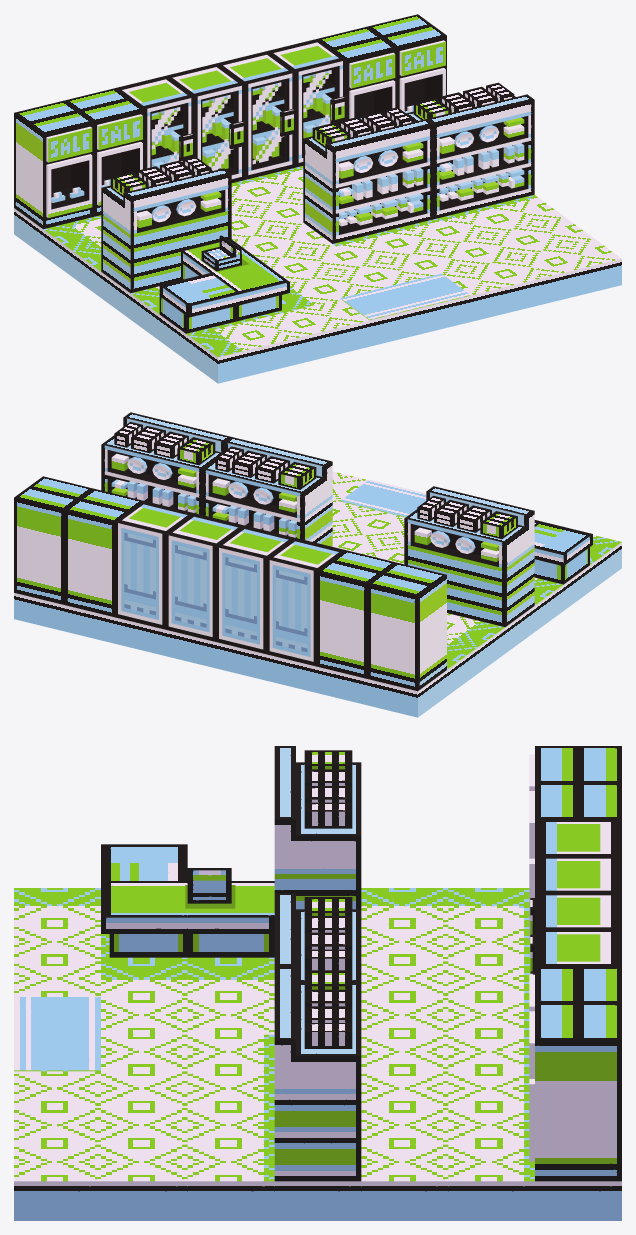
File: zone_family_mart_interior.glb
The picture shows the model from 3 angles, top to bottom: view 1: azimuth 30°, elevation 25°; view 2: azimuth 150°, elevation 25°; view 3: azimuth 270°, elevation 25°; orthographic projection. The views are drawn at different scales.
Parts seen in each view (by area): view 1: Floor, Balcony_Shelf, Shelf_pokemart_mat_0.001, Balcony, Shelf, Sale_Shelf_pokemart_mat_0.003, Fridge_Door_pokemart_fridge_mat_0.001, Mat, Fridge_Door_pokemart_fridge_mat_0.002, Sale_Shelf_Inside_pokemart_mat_0.003, Sale_Shelf_pokemart_mat_0.002, Fridge_pokemart_fridge_mat_0.001 (+18 smaller); view 2: Floor, Balcony_Shelf, Sale_Shelf_pokemart_mat_0.003, Sale_Shelf_pokemart_mat_0.002, Sale_Shelf_pokemart_mat_0.001, Sale_Shelf, Shelf_pokemart_mat_0.001, Fridge, Fridge_pokemart_fridge_mat_0.003, Fridge_pokemart_fridge_mat_0.001, Fridge_pokemart_fridge_mat_0.002, Shelf (+14 smaller); view 3: Floor, Sale_Shelf, Balcony, Shelf, Balcony_Shelf, Mat, Sale_Shelf_pokemart_mat_0.001, Sale_Shelf_pokemart_mat_0.002, Sale_Shelf_pokemart_mat_0.003, Shelf_pokemart_mat_0.001, Fridge, Fridge_pokemart_fridge_mat_0.003 (+15 smaller).
Boxes of the visible parts, x1,y1,x2,y2 form: Floor: (14, 166, 621, 383); Balcony_Shelf: (101, 168, 231, 293); Shelf_pokemart_mat_0.001: (303, 119, 433, 243); Balcony: (159, 239, 289, 333); Shelf: (406, 94, 534, 218); Sale_Shelf_pokemart_mat_0.003: (14, 100, 93, 229); Fridge_Door_pokemart_fridge_mat_0.001: (242, 70, 295, 179); Mat: (341, 273, 469, 319); Fridge_Door_pokemart_fridge_mat_0.002: (191, 82, 244, 182); Sale_Shelf_Inside_pokemart_mat_0.003: (46, 154, 92, 217); Sale_Shelf_pokemart_mat_0.002: (65, 88, 143, 216); Fridge_pokemart_fridge_mat_0.001: (216, 51, 291, 163); Floor: (14, 471, 621, 717); Balcony_Shelf: (404, 486, 534, 627); Sale_Shelf_pokemart_mat_0.003: (367, 562, 446, 691); Sale_Shelf_pokemart_mat_0.002: (317, 550, 396, 678); Sale_Shelf_pokemart_mat_0.001: (64, 488, 143, 617); Sale_Shelf: (14, 476, 93, 604); Shelf_pokemart_mat_0.001: (202, 437, 332, 546); Fridge: (115, 503, 190, 629); Fridge_pokemart_fridge_mat_0.003: (266, 540, 341, 666); Fridge_pokemart_fridge_mat_0.001: (165, 516, 240, 641); Fridge_pokemart_fridge_mat_0.002: (216, 528, 291, 653); Shelf: (101, 412, 230, 514); Floor: (14, 888, 621, 1220); Sale_Shelf: (535, 1003, 621, 1181); Balcony: (101, 844, 274, 957); Shelf: (274, 966, 361, 1181); Balcony_Shelf: (274, 746, 361, 909); Mat: (14, 997, 100, 1070); Sale_Shelf_pokemart_mat_0.001: (535, 966, 621, 1002); Sale_Shelf_pokemart_mat_0.002: (535, 783, 621, 819); Sale_Shelf_pokemart_mat_0.003: (535, 746, 621, 782); Shelf_pokemart_mat_0.001: (274, 893, 361, 982); Fridge: (546, 929, 621, 966); Fridge_pokemart_fridge_mat_0.003: (546, 819, 621, 856).
Size of the model in its own units: 8 by 2.31 by 7.
Materials: 3 (3 with a texture image).
